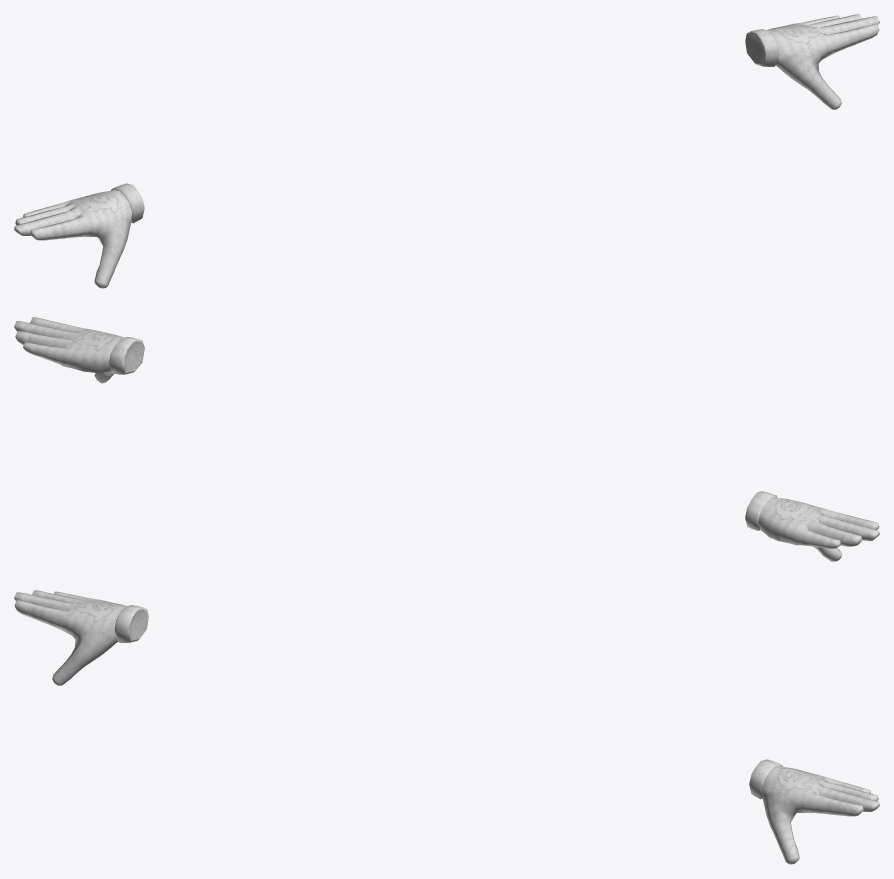
File: p0_glv1005_00_glv00.gltf
3 renders of one model, top to bottom at view 1: azimuth 30°, elevation 25°; view 2: azimuth 150°, elevation 25°; view 3: azimuth 330°, elevation 25°, orthographic.
Visible parts, largest first — view 1: glv00_glove_mesh_shape:glove; view 2: glv00_glove_mesh_shape:glove; view 3: glv00_glove_mesh_shape:glove.
Part boxes in pixels (<box>): glv00_glove_mesh_shape:glove: <box>14,14,879,288</box>; glv00_glove_mesh_shape:glove: <box>14,317,879,561</box>; glv00_glove_mesh_shape:glove: <box>14,590,879,864</box>.
Size of what is drawn, in the model's own units: 1.36 by 0.11 by 0.1183.
1 material, 1 textured.
